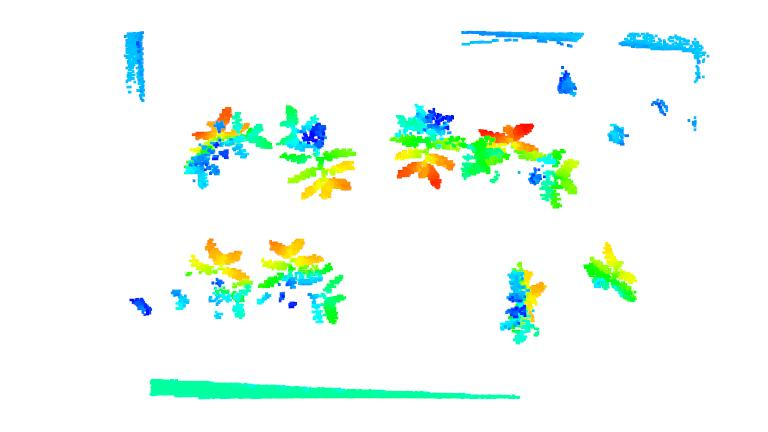chickpea: (462, 119, 581, 214), (255, 236, 349, 326), (274, 101, 356, 200), (183, 105, 273, 191), (172, 238, 250, 323), (393, 103, 459, 190), (498, 259, 545, 347), (584, 241, 640, 306)
